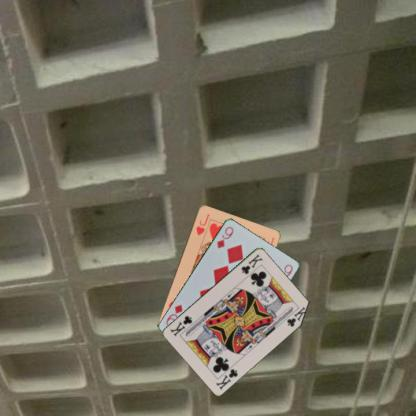9d: (214, 224, 235, 250)
Jh: (193, 211, 211, 236)
Kc: (213, 366, 239, 390), (239, 251, 264, 275)
